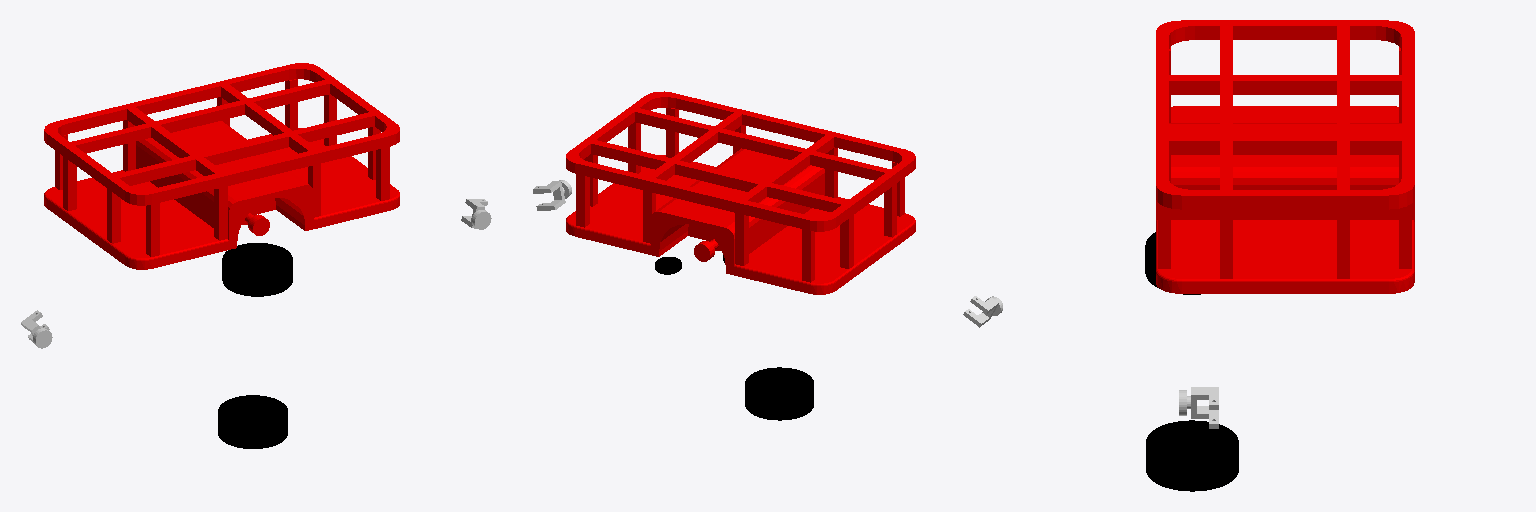
URDF robot description (robot):
<?xml version="1.0" encoding="utf-8"?>
<!-- This URDF was automatically created by SolidWorks to URDF Exporter! Originally created by [author] ([email redacted]) 
     Commit Version: 1.5.0-0-g9aa0fdb  Build Version: 1.5.7004.21443
     For more information, please see http://wiki.ros.org/sw_urdf_exporter -->
<robot name="robot">
  <link name="base_link">
    <inertial>
      <origin
        xyz="0 0 0"
        rpy="0 0 0" />
      <mass
        value="0.18866" />
      <inertia
        ixx="0.01"
        ixy="0.0"
        ixz="0.0"
        iyy="0.01"
        iyz="0.0"
        izz="0.5" />
    </inertial>
    <visual>
      <origin
        xyz="0 0 0"
        rpy="0 0 0" />
      <geometry>
        <mesh filename="package://robot/meshes/base_link.STL" />
      </geometry>
      <material
        name="Red">
        <color
          rgba="1 0 0 1" />
      </material>
    </visual>
    <collision>
      <origin
        xyz="0 0 0"
        rpy="0 0 0" />
      <geometry>
        <mesh filename="package://robot/meshes/base_link.STL" />
      </geometry>
    </collision>
  </link>

  <gazebo reference="base_link">
      <material>Gazebo/Red</material>
  </gazebo>

  <!-- leftwheel_Link -->
  <link name="leftwheel_Link">
    <inertial>
      <origin
        xyz="0 0.09217 0"
        rpy="0 0 0" />
      <mass
        value="0.013351" />
      <inertia
        ixx="1.4054E-06"
        ixy="-2.7525E-24"
        ixz="-2.647E-23"
        iyy="2.3499E-06"
        iyz="4.2406E-23"
        izz="1.4054E-06" />
    </inertial>
    <visual>
      <origin
        xyz="0 0 0"
        rpy="1.57079633 0 0" />
      <geometry>
        <mesh filename="package://robot/meshes/leftwheel_Link.STL" />
      </geometry>
      <material
        name="Black">
        <color
          rgba="0 0 0 1" />
      </material>
    </visual>
    <collision>
      <origin
        xyz="0 0 0"
        rpy="1.57079633 0 0" />
      <geometry>
        <mesh filename="package://robot/meshes/leftwheel_Link.STL" />
      </geometry>
    </collision>
  </link>

  <gazebo reference="leftwheel_Link">
      <material>Gazebo/Black</material>
  </gazebo>

  <!-- leftwheel_to_base -->
  <joint name="leftwheel_to_base" type="continuous">
    <origin
      xyz="0 -0.018 -0.05"
      rpy="0 0 0" />
    <parent
      link="base_link" />
    <child
      link="leftwheel_Link" />
    <axis
      xyz="0 1 0" />
    <limit
      effort="1000"
      velocity="100" />
    <dynamics
      damping="100000"
      friction="0.6" />
    <safety_controller
      k_velocity="0" />
  </joint>

  <!-- rightwheel_Link -->
  <link name="rightwheel_Link">
    <inertial>
      <origin
        xyz="0 0.0078296 0"
        rpy="0 0 0" />
      <mass
        value="0.013351" />
      <inertia
        ixx="1.4054E-06"
        ixy="-4.2779E-23"
        ixz="3.9705E-23"
        iyy="2.3499E-06"
        iyz="-3.473E-23"
        izz="1.4054E-06" />
    </inertial>
    <visual>
      <origin
        xyz="0 0 0"
        rpy="0 0 0" />
      <geometry>
        <mesh
          filename="package://robot/meshes/rightwheel_Link.STL" />
      </geometry>
      <material
        name="Black">
        <color
          rgba="0 0 0 1" />
      </material>
    </visual>
    <collision>
      <origin
        xyz="0 0 0"
        rpy="0 0 0" />
      <geometry>
        <mesh
          filename="package://robot/meshes/rightwheel_Link.STL" />
      </geometry>
    </collision>
  </link>

  <gazebo reference="rightwheel_Link">
      <material>Gazebo/Black</material>
  </gazebo>

  <!-- rightwheel_to_base -->
  <joint name="rightwheel_to_base" type="continuous">
    <origin
      xyz="0 -0.018 -0.05"
      rpy="1.5708 0 -0.14261" />
    <parent
      link="base_link" />
    <child
      link="rightwheel_Link" />
    <axis
      xyz="0 -1 0" />
    <limit
      effort="1000"
      velocity="100" />
    <dynamics
      damping="100000"
      friction="0.6" />
    <safety_controller
      k_velocity="0" />
  </joint>

  <!-- front_universal_wheel_state_Link -->
  <link name="front_universal_wheel_state_Link">
    <inertial>
      <origin
        xyz="-0.00081567 0 0.007063"
        rpy="0 0 0" />
      <mass
        value="0.00073874" />
      <inertia
        ixx="2.8693E-08"
        ixy="1.4476E-24"
        ixz="3.8787E-09"
        iyy="2.3301E-08"
        iyz="5.1699E-24"
        izz="1.6188E-08" />
    </inertial>
    <visual>
      <origin
        xyz="0 0 0"
        rpy="0 0 0" />
      <geometry>
        <mesh
          filename="package://robot/meshes/front_universal_wheel_state_Link.STL" />
      </geometry>
      <material
        name="">
        <color
          rgba="0.85098 0.85098 0.85098 1" />
      </material>
    </visual>
    <collision>
      <origin
        xyz="0 0 0"
        rpy="0 0 0" />
      <geometry>
        <mesh
          filename="package://robot/meshes/front_universal_wheel_state_Link.STL" />
      </geometry>
    </collision>
  </link>

  <!-- front_universal_wheel_state_to_base -->
  <joint name="front_universal_wheel_state_to_base" type="continuous">
    <origin
      xyz="0.065 -0.0205 0"
      rpy="1.5708 0.12626 0" />
    <parent
      link="base_link" />
    <child
      link="front_universal_wheel_state_Link" />
    <axis
      xyz="0 0 -1" />
    <limit
      effort="1000"
      velocity="100" />
    <dynamics
      damping="100000"
      friction="0.6" />
    <safety_controller
      k_velocity="0" />
  </joint>

  <!-- front_universal_wheel_Link -->
  <link name="front_universal_wheel_Link">
    <inertial>
      <origin
        xyz="0 -0.002 0"
        rpy="0 0 0" />
      <mass
        value="0.00059041" />
      <inertia
        ixx="7.8748E-09"
        ixy="-1.1347E-24"
        ixz="4.1359E-25"
        iyy="1.4243E-08"
        iyz="9.8306E-25"
        izz="7.8748E-09" />
    </inertial>
    <visual>
      <origin
        xyz="0 0 0"
        rpy="0 0 0" />
      <geometry>
        <mesh
          filename="package://robot/meshes/front_universal_wheel_Link.STL" />
      </geometry>
      <material
        name="Black">
        <color
          rgba="0 0 0 1" />
      </material>
    </visual>
    <collision>
      <origin
        xyz="0 0 0"
        rpy="0 0 0" />
      <geometry>
        <mesh
          filename="package://robot/meshes/front_universal_wheel_Link.STL" />
      </geometry>
    </collision>
  </link>

  <gazebo reference="front_universal_wheel_Link">
      <material>Gazebo/Black</material>
  </gazebo>

  <!-- front_universal_wheel_to_base -->
  <joint name="front_universal_wheel_to_base"
    type="continuous">
    <origin
      xyz="0.0065 0.002 -0.0135"
      rpy="-3.1416 0.64708 -3.1416" />
    <parent
      link="front_universal_wheel_state_Link" />
    <child
      link="front_universal_wheel_Link" />
    <axis
      xyz="0 1 0" />
    <limit
      effort="1000"
      velocity="100" />
    <dynamics
      damping="100000"
      friction="0.6" />
    <safety_controller
      k_velocity="0" />
  </joint>

  <!-- rare_universal_wheel_state_Link -->
  <link name="rare_universal_wheel_state_Link">
    <inertial>
      <origin
        xyz="0.00081567 -1.7347E-18 -0.007063"
        rpy="0 0 0" />
      <mass
        value="0.00073874" />
      <inertia
        ixx="2.8693E-08"
        ixy="2.8951E-24"
        ixz="3.8787E-09"
        iyy="2.3301E-08"
        iyz="-7.2378E-25"
        izz="1.6188E-08" />
    </inertial>
    <visual>
      <origin
        xyz="0 0 0"
        rpy="0 0 0" />
      <geometry>
        <mesh
          filename="package://robot/meshes/rare_universal_wheel_state_Link.STL" />
      </geometry>
      <material
        name="">
        <color
          rgba="0.85098 0.85098 0.85098 1" />
      </material>
    </visual>
    <collision>
      <origin
        xyz="0 0 0"
        rpy="0 0 0" />
      <geometry>
        <mesh
          filename="package://robot/meshes/rare_universal_wheel_state_Link.STL" />
      </geometry>
    </collision>
  </link>

  <!-- rare_universal_wheel_state_to_base -->
  <joint name="rare_universal_wheel_state_to_base"
    type="continuous">
    <origin
      xyz="-0.065 -0.0205 0"
      rpy="1.5708 -0.22763 0" />
    <parent
      link="base_link" />
    <child
      link="rare_universal_wheel_state_Link" />
    <axis
      xyz="0 0 -1" />
    <limit
      effort="1000"
      velocity="100" />
    <dynamics
      damping="100000"
      friction="0.6" />
    <safety_controller
      k_velocity="0" />
  </joint>

  <!-- rare_universal_wheel_Link -->
  <link name="rare_universal_wheel_Link">
    <inertial>
      <origin
        xyz="-6.9389E-18 -0.002 0"
        rpy="0 0 0" />
      <mass
        value="0.00059041" />
      <inertia
        ixx="7.8748E-09"
        ixy="2.4786E-25"
        ixz="-8.2718E-25"
        iyy="1.4243E-08"
        iyz="-5.4483E-25"
        izz="7.8748E-09" />
    </inertial>
    <visual>
      <origin
        xyz="0 0 0"
        rpy="0 0 0" />
      <geometry>
        <mesh
          filename="package://robot/meshes/rare_universal_wheel_Link.STL" />
      </geometry>
      <material
        name="Black">
        <color
          rgba="0 0 0 1" />
      </material>
    </visual>
    <collision>
      <origin
        xyz="0 0 0"
        rpy="0 0 0" />
      <geometry>
        <mesh
          filename="package://robot/meshes/rare_universal_wheel_Link.STL" />
      </geometry>
    </collision>
  </link>

  <gazebo reference="rare_universal_wheel_Link">
      <material>Gazebo/Black</material>
  </gazebo>

  <!-- rare_universal_wheel_to_base -->
  <joint name="rare_universal_wheel_to_base" type="continuous">
    <origin xyz="0.0065 0.002 -0.0135" rpy="3.1416 -0.56112 3.1416" />
    <parent
      link="rare_universal_wheel_state_Link" />
    <child
      link="rare_universal_wheel_Link" />
    <axis
      xyz="0 1 0" />
    <limit
      effort="1000"
      velocity="100" />
    <dynamics
      damping="100000"
      friction="0.6" />
    <safety_controller
      k_velocity="0" />
  </joint>

</robot>

--- What the picture shows (computed from the rendered views, not written in the file) ---
The picture shows the robot from 3 angles, left to right: view 1: azimuth 30°, elevation 25°; view 2: azimuth 150°, elevation 25°; view 3: azimuth 270°, elevation 25°; orthographic projection.
Robot: robot — 7 links, 6 joints (6 continuous); root link base_link; default pose: all joints at 0.
Visible links, largest first — view 1: base_link, leftwheel_Link, rightwheel_Link, rare_universal_wheel_state_Link, front_universal_wheel_state_Link; view 2: base_link, rightwheel_Link, front_universal_wheel_state_Link, rare_universal_wheel_state_Link; view 3: base_link, rightwheel_Link, front_universal_wheel_state_Link.
Boxes of the visible links, x1=… form: base_link: x1=44, y1=63, x2=399, y2=269; leftwheel_Link: x1=222, y1=243, x2=292, y2=296; rightwheel_Link: x1=218, y1=395, x2=287, y2=448; rare_universal_wheel_state_Link: x1=21, y1=310, x2=52, y2=348; front_universal_wheel_state_Link: x1=461, y1=199, x2=491, y2=229; base_link: x1=566, y1=91, x2=915, y2=294; rightwheel_Link: x1=745, y1=367, x2=813, y2=420; front_universal_wheel_state_Link: x1=533, y1=180, x2=571, y2=210; rare_universal_wheel_state_Link: x1=963, y1=296, x2=1002, y2=327; base_link: x1=1156, y1=20, x2=1414, y2=293; rightwheel_Link: x1=1146, y1=420, x2=1238, y2=491; front_universal_wheel_state_Link: x1=1179, y1=387, x2=1218, y2=428.
Size in the robot's own frame: 0.2725 by 0.104 by 0.157 metres.
7 mesh visuals loaded from 7 distinct referenced files (7 binary STL).
